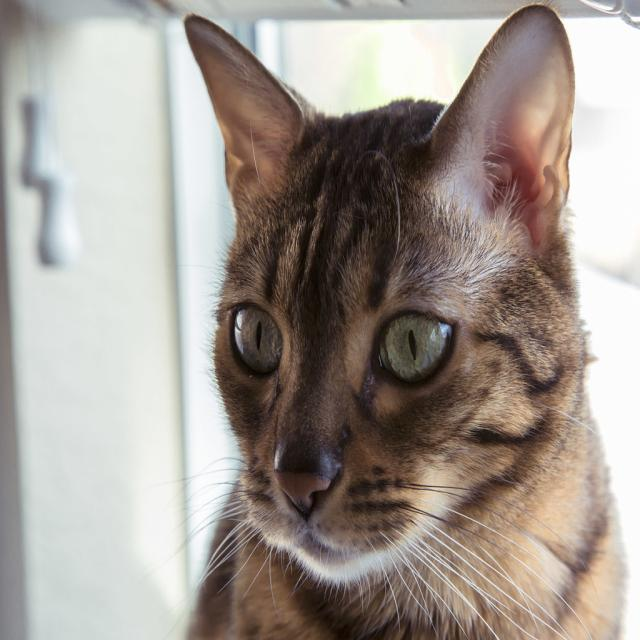Cat: (139, 0, 630, 639)
